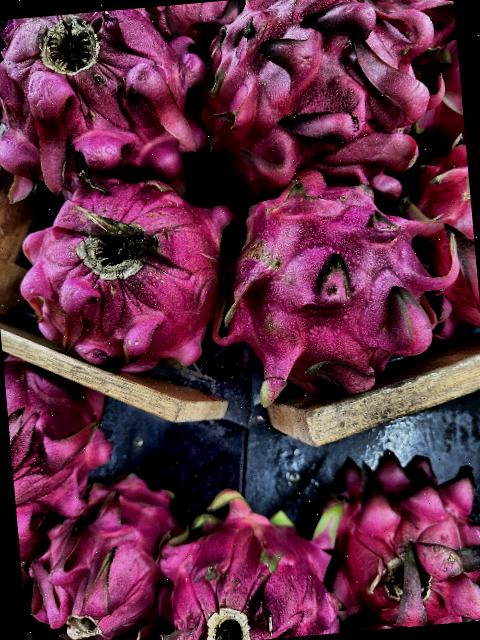buah-naga-matang: (215, 149, 467, 409), (7, 162, 239, 390), (200, 0, 449, 203), (0, 3, 214, 211), (151, 472, 351, 640), (323, 431, 480, 632), (3, 350, 123, 542), (34, 482, 173, 640)
